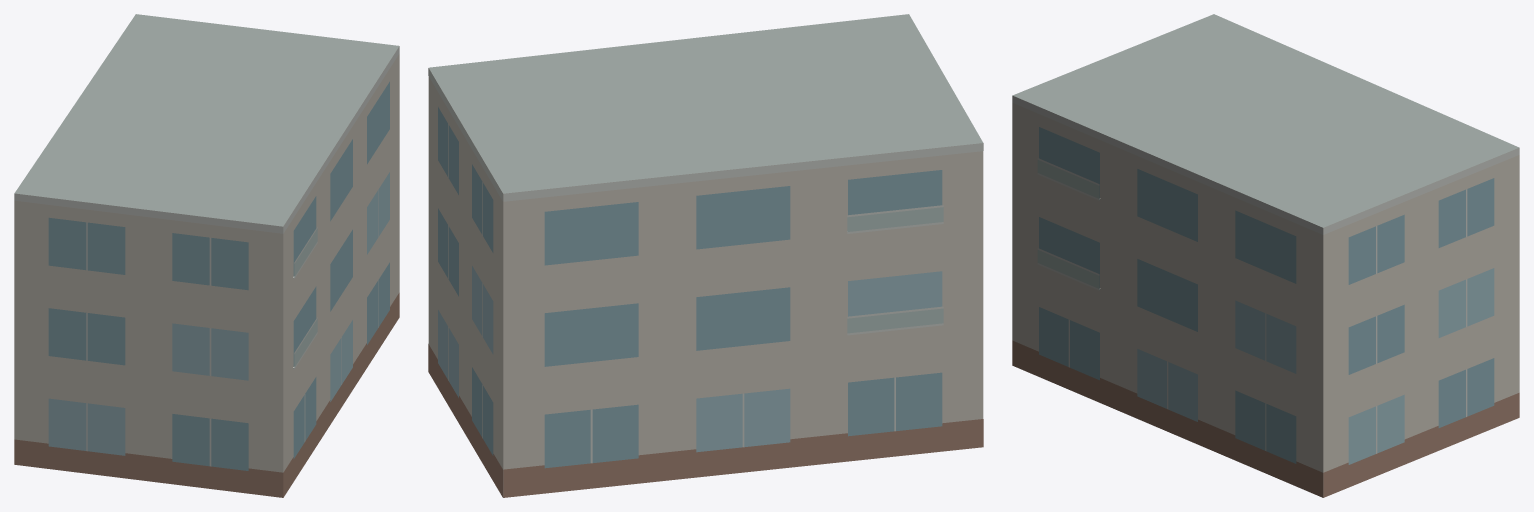
The model's file is survey-upis-33010984.glb.
The picture shows the model from 3 angles, left to right: view 1: azimuth 30°, elevation 25°; view 2: azimuth 150°, elevation 25°; view 3: azimuth 270°, elevation 25°; orthographic projection. The views are drawn at different scales.
Visible parts, largest first — view 1: survey-upis-33010984.tmp; view 2: survey-upis-33010984.tmp; view 3: survey-upis-33010984.tmp.
Boxes of the visible parts, x1,y1,x2,y2 form: survey-upis-33010984.tmp: (14,14,399,497); survey-upis-33010984.tmp: (428,14,983,497); survey-upis-33010984.tmp: (1012,14,1519,497).
Bounding box in the file's own units: 15.55 × 9.15 × 15.58.
